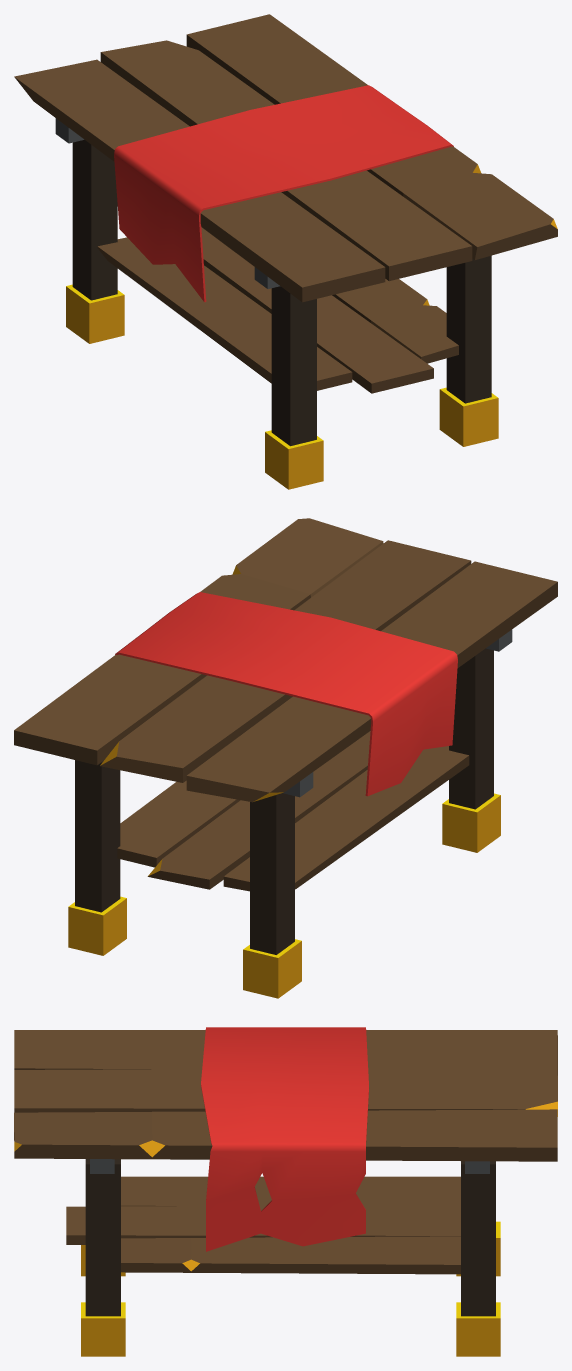
File: Display_Table.fbx
The picture shows the model from 3 angles, top to bottom: view 1: azimuth 30°, elevation 25°; view 2: azimuth 150°, elevation 25°; view 3: azimuth 270°, elevation 25°; orthographic projection. The views are drawn at different scales.
Visible parts, largest first — view 1: Display_Table; view 2: Display_Table; view 3: Display_Table.
Boxes of the visible parts, box(x1,y1,x2,y2) form: Display_Table: box(14, 14, 557, 489); Display_Table: box(14, 518, 557, 998); Display_Table: box(14, 1027, 557, 1356).
Size of the model in its own units: 0.7623 by 0.6718 by 1.46.
